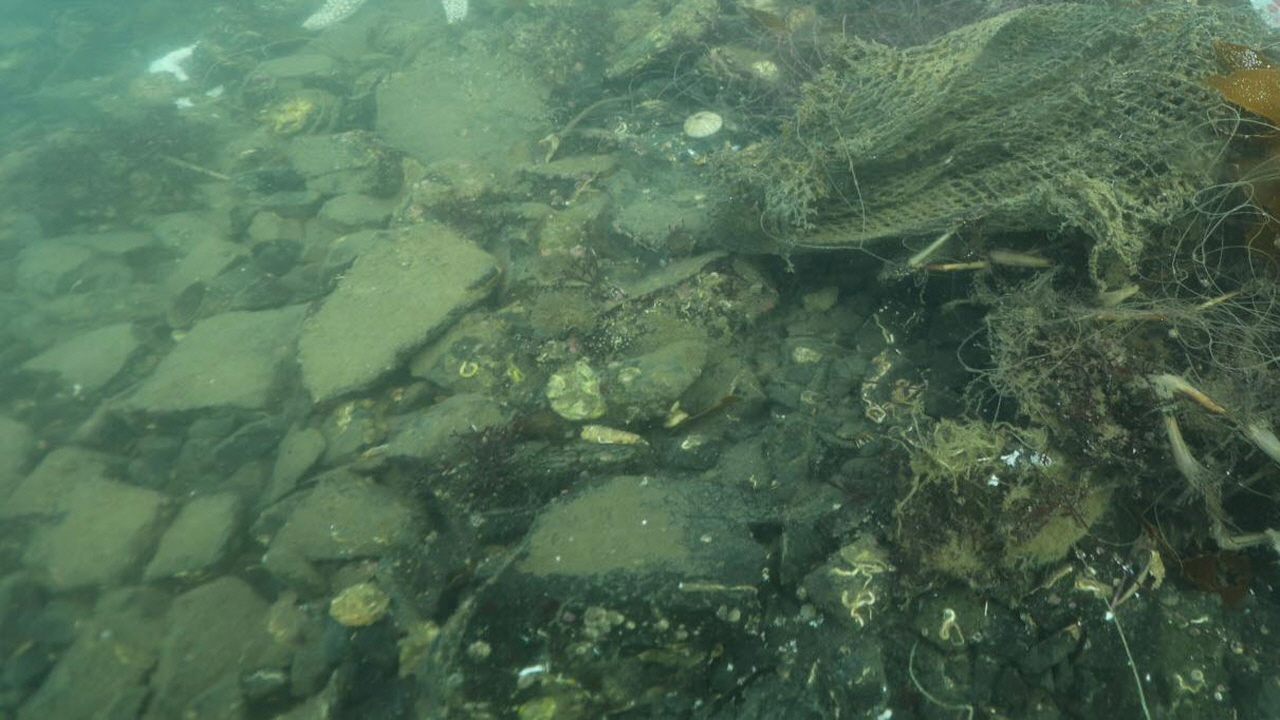fish net: (753, 0, 1269, 246)
